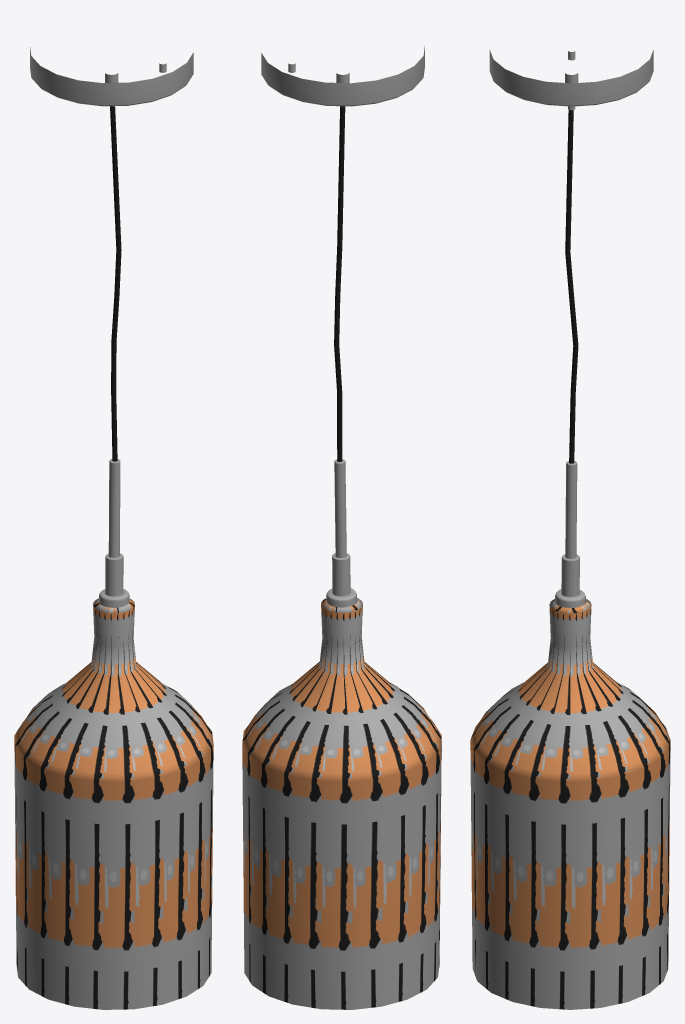
The model's file is abo-B072LKKM3W.glb.
The picture shows the model from 3 angles, left to right: view 1: azimuth 30°, elevation 25°; view 2: azimuth 150°, elevation 25°; view 3: azimuth 270°, elevation 25°; orthographic projection.
Bounding box in the file's own units: 0.303 × 1.54 × 0.303.
1 material, 1 textured.
